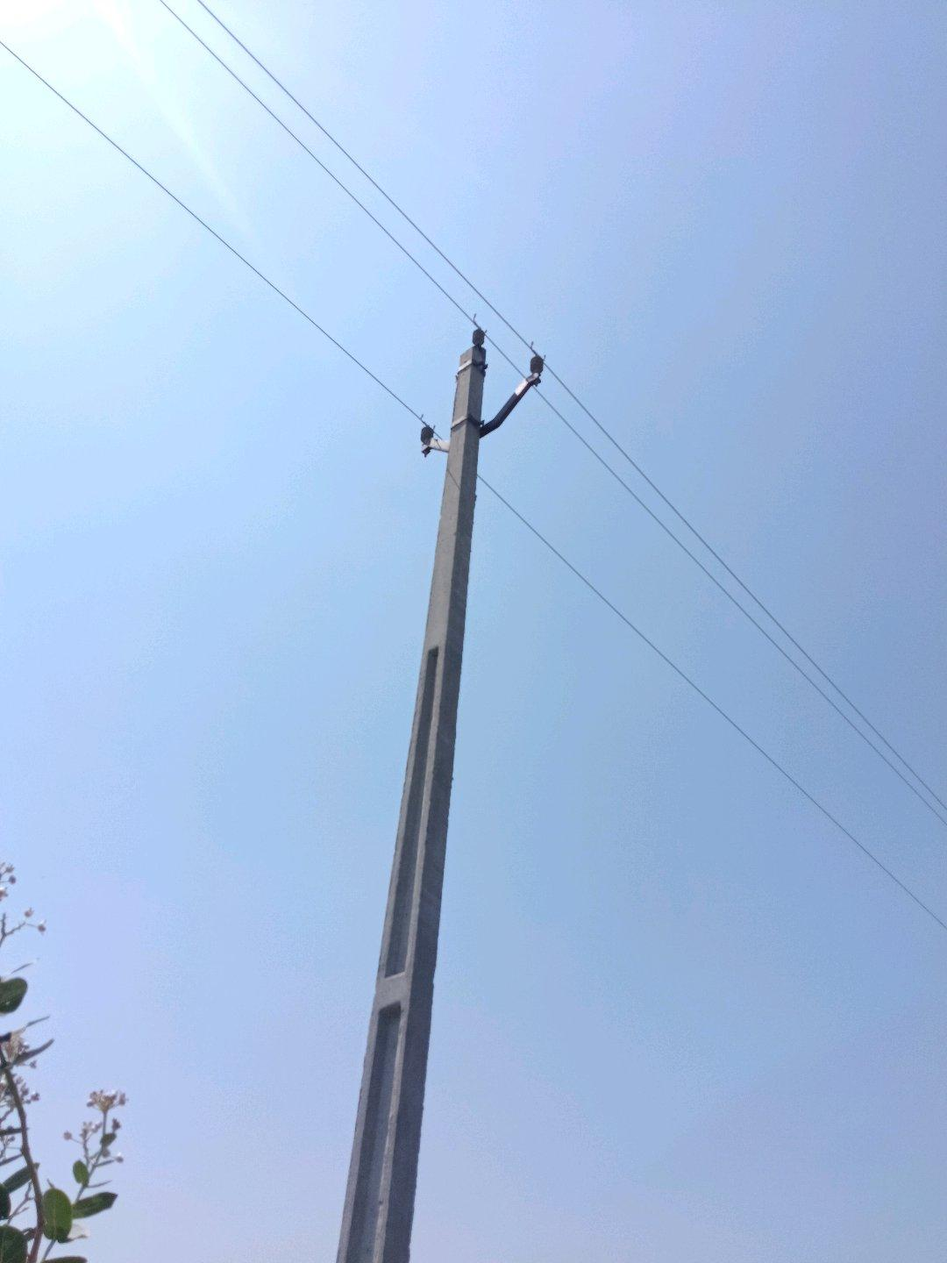{"0" "insulator", "1" "pole", "2" "crossarm", "3" "conductor", "4" "street_: (337, 328, 542, 1262)
